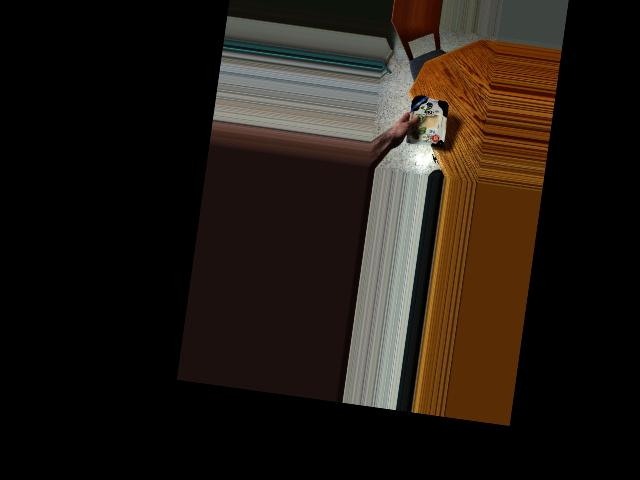cheese: (402, 93, 449, 151)
